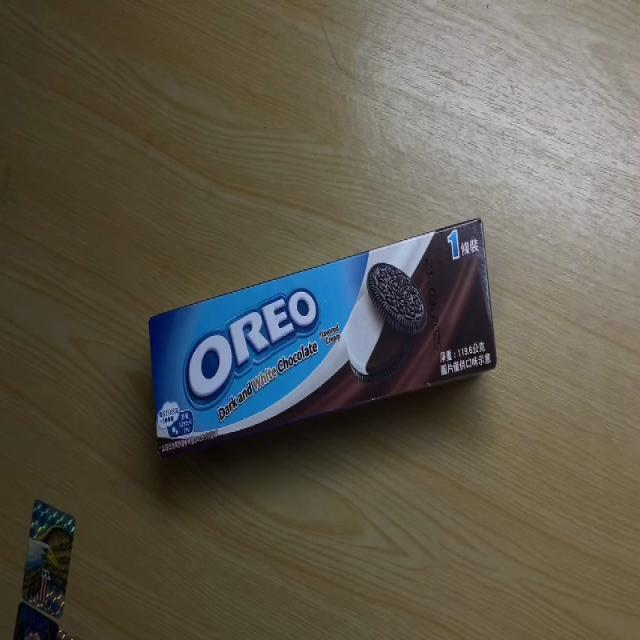Oreo: (148, 217, 500, 450)
